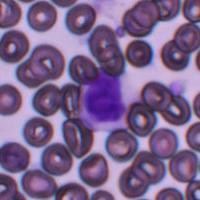M: (76, 67, 130, 131)
